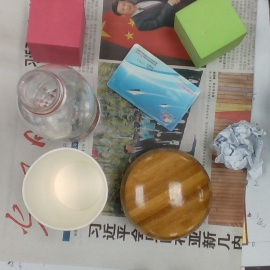bottle: (17, 65, 102, 142)
card: (107, 42, 201, 132)
chess: (120, 149, 211, 239)
cup: (21, 146, 108, 228)
